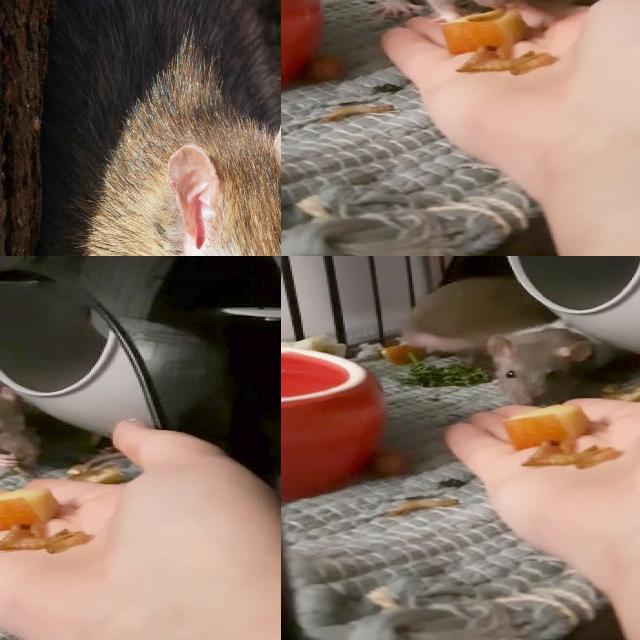rat: (71, 6, 281, 256), (482, 323, 598, 409), (349, 0, 551, 30), (0, 370, 40, 478)
